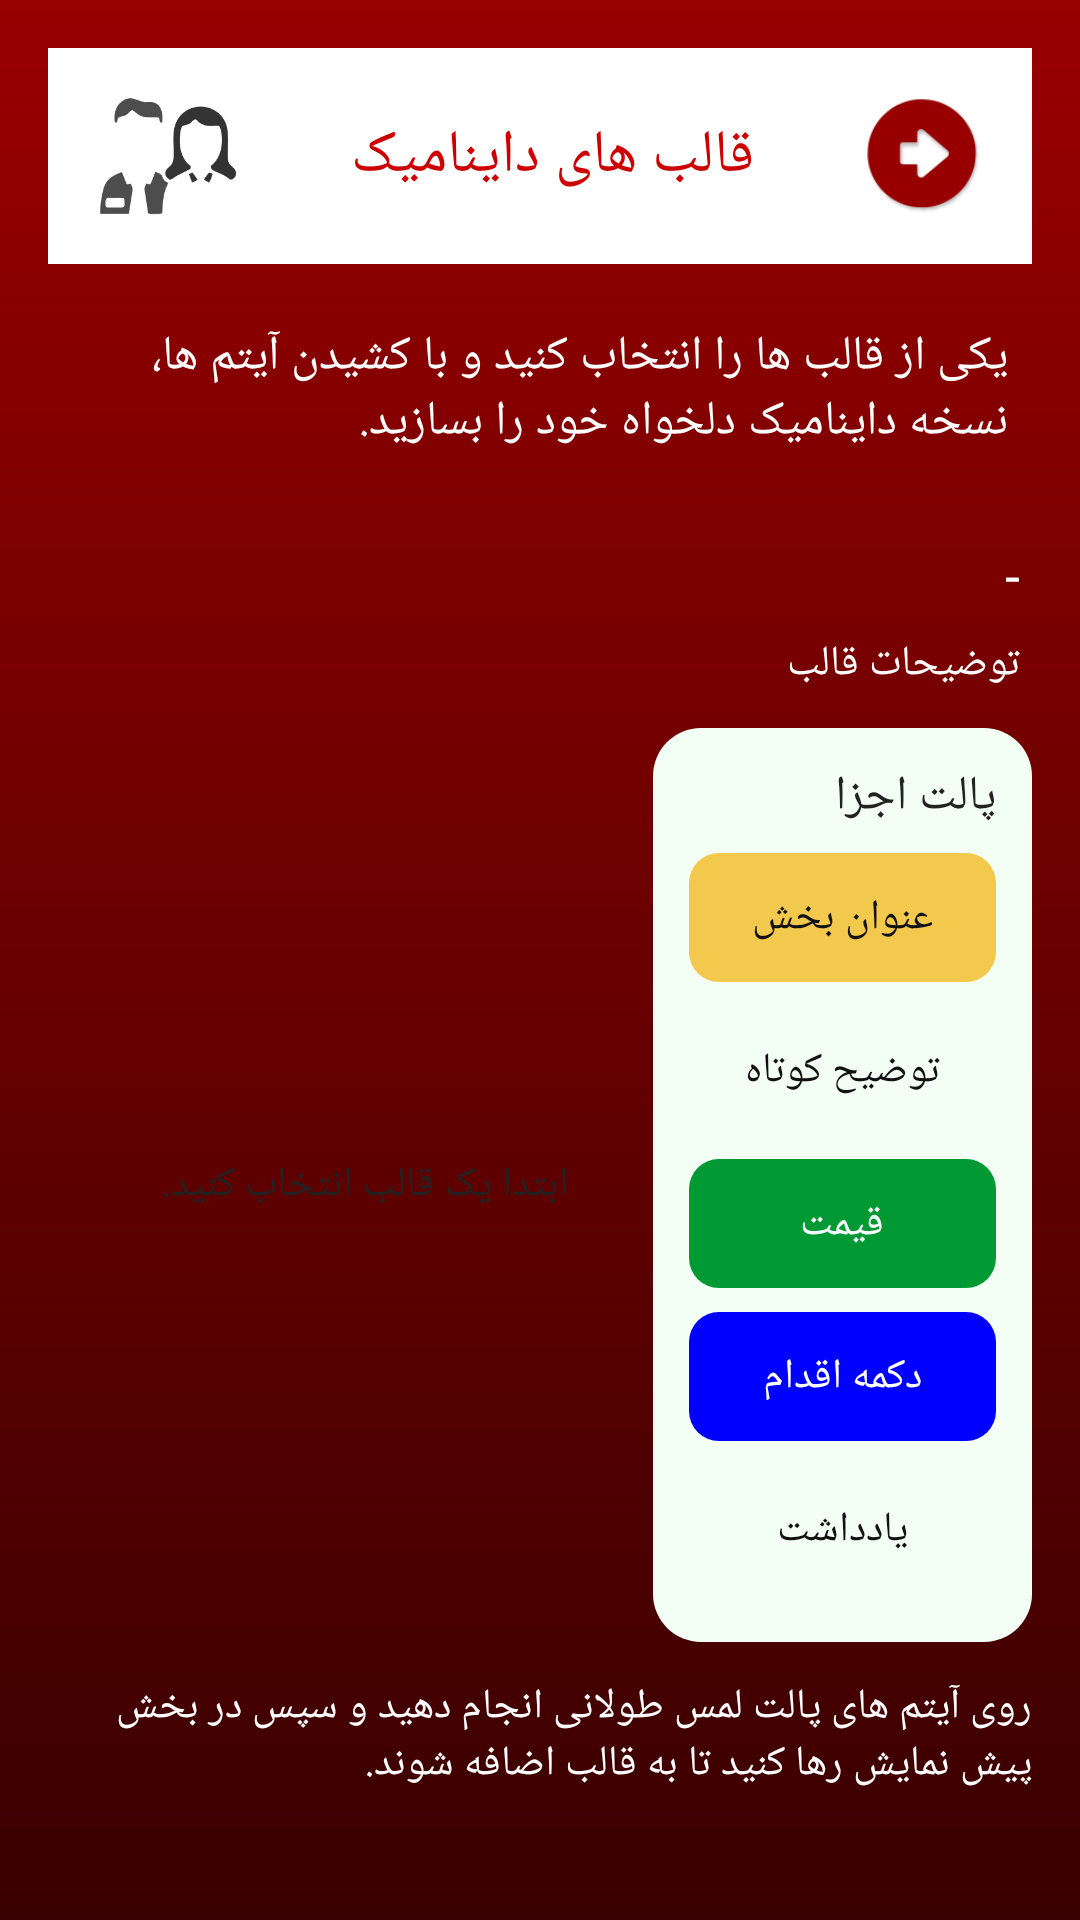

Named icons in this screenshot (1080x1920) and their bounding boxes, Rect(x1, y1, x2, y2):
customermenu: Rect(100, 98, 236, 214)
